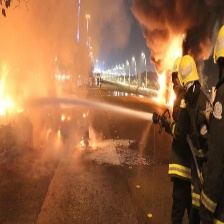fire: (155, 38, 184, 106), (1, 66, 18, 120)
smoke: (1, 1, 117, 95), (132, 1, 224, 58)
